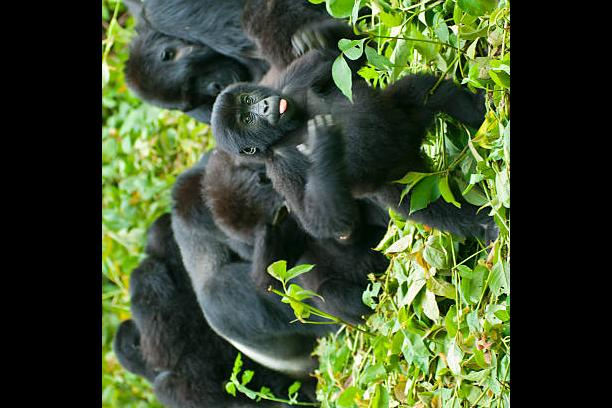goriile_montagne: (211, 33, 487, 236), (102, 0, 247, 119)
